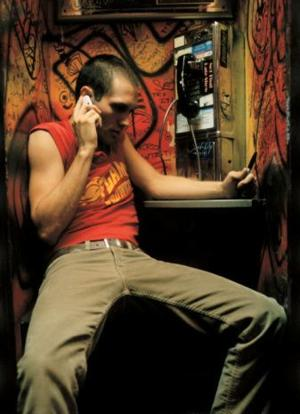person: (18, 55, 288, 414)
